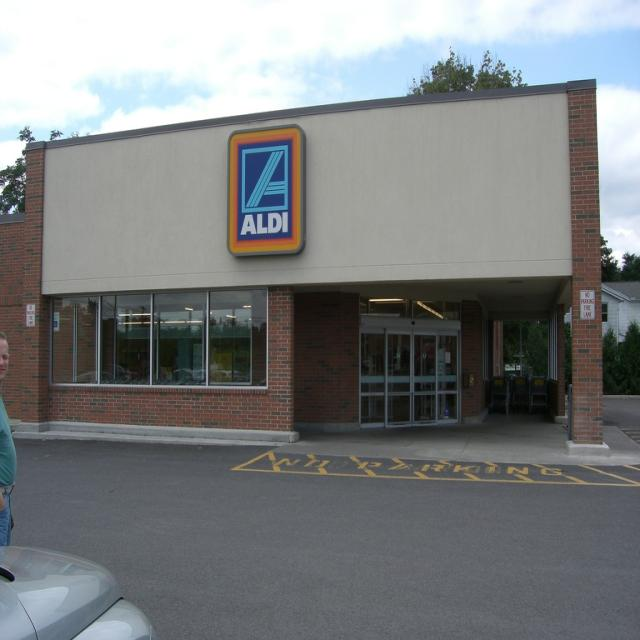aldi: (230, 128, 302, 255)
